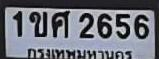1: (12, 10, 21, 36)
2: (78, 12, 93, 37)
5: (115, 13, 129, 38)
6: (133, 13, 148, 38), (97, 12, 111, 38)
A02: (28, 11, 46, 36)
A38: (51, 10, 69, 37)
BKK: (24, 46, 134, 59)
